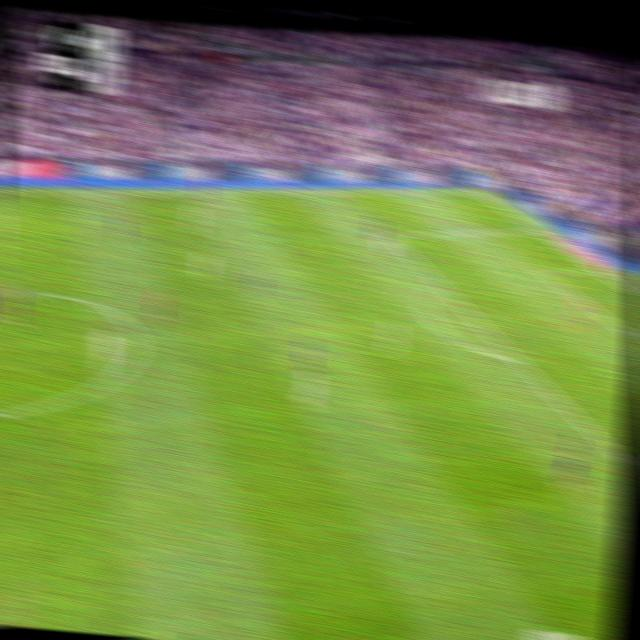bigarea_top_inner: (383, 228, 398, 242)
bottom_arc_area_intersection: (508, 351, 529, 370)
corner: (470, 186, 487, 197)
halfcircle_bottom: (0, 397, 4, 429)
halfcircle_top: (0, 280, 7, 301)
midline_top_intersection: (0, 184, 10, 199)
smallarea_top_inner: (538, 267, 553, 278)
top_arc_area_intersection: (432, 276, 448, 291)
